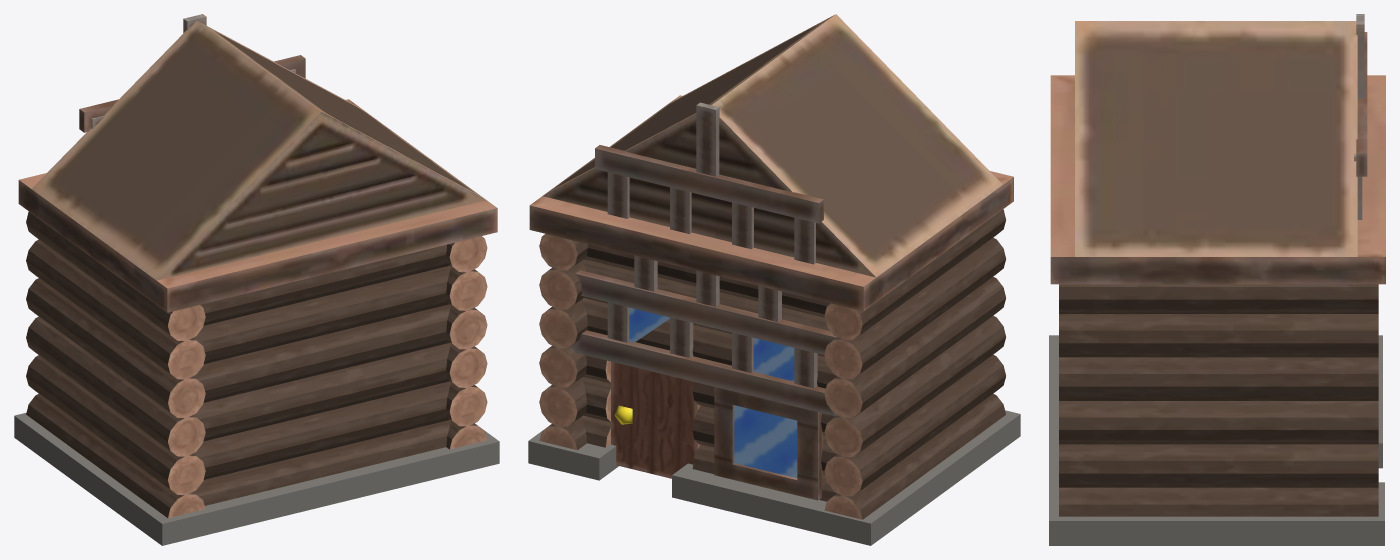
The model's file is cabin.lod.glb.
3 views of the same model, side by side, from view 1: azimuth 30°, elevation 25°; view 2: azimuth 150°, elevation 25°; view 3: azimuth 270°, elevation 25° (orthographic). The views are drawn at different scales.
Visible parts, largest first — view 1: Wall Left.005; view 2: Wall Left.005; view 3: Wall Left.005.
Part boxes in pixels (x1=…): Wall Left.005: x1=14, y1=14, x2=499, y2=545; Wall Left.005: x1=528, y1=14, x2=1020, y2=545; Wall Left.005: x1=1049, y1=14, x2=1385, y2=545.
Size of the model in its own units: 4.81 by 5.24 by 3.68.
Materials: 7 (6 with a texture image).
